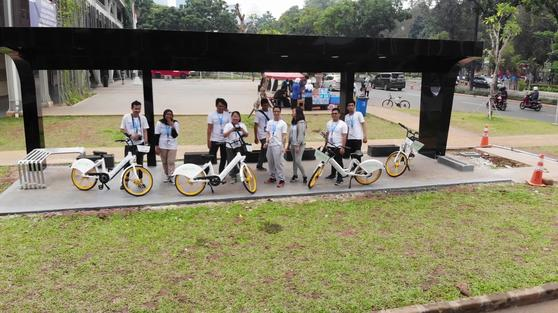bike: (68, 136, 156, 195), (169, 140, 260, 196), (302, 142, 386, 192), (382, 127, 427, 180)
